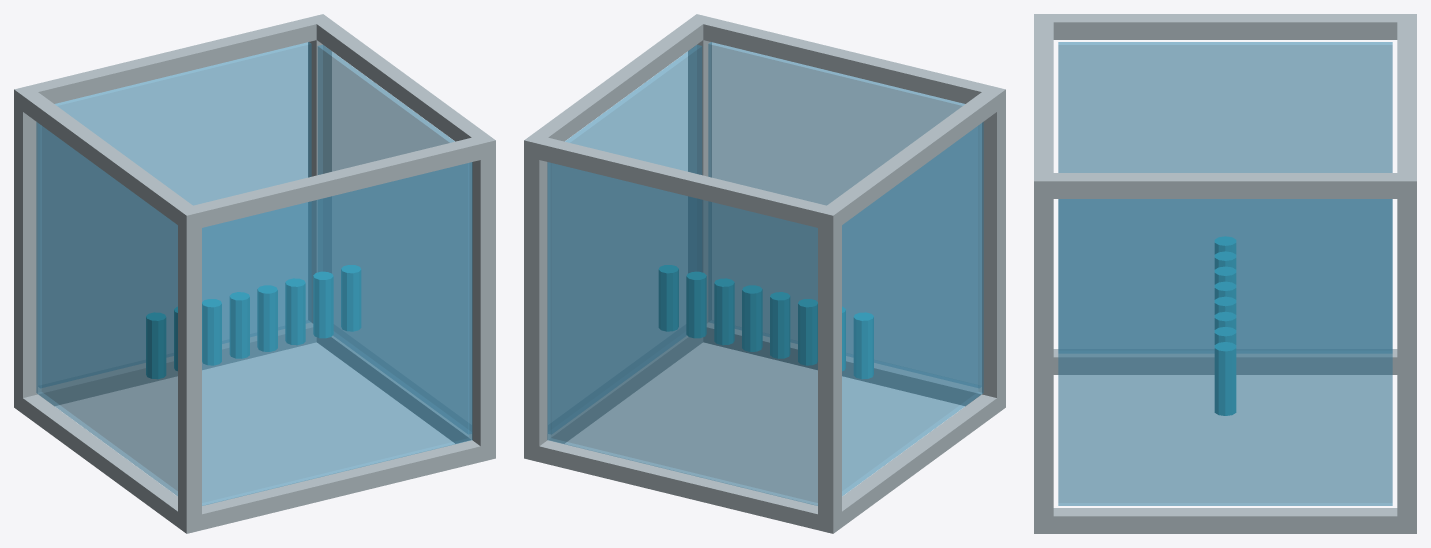
File: 47_L77_PrecisionMegasonicCleaningModule.fbx
The picture shows the model from 3 angles, left to right: view 1: azimuth 30°, elevation 25°; view 2: azimuth 150°, elevation 25°; view 3: azimuth 270°, elevation 25°; orthographic projection. The views are drawn at different scales.
Visible parts, largest first — view 1: PrecisionMegasonicCleaningModule_Part_0013, PrecisionMegasonicCleaningModule_Part_0012, PrecisionMegasonicCleaningModule_Part_0014, PrecisionMegasonicCleaningModule_Part_0015, PrecisionMegasonicCleaningModule_Part_0001, PrecisionMegasonicCleaningModule_Part_0009, PrecisionMegasonicCleaningModule_Part_0005, PrecisionMegasonicCleaningModule_Part_0003, PrecisionMegasonicCleaningModule_Part_0008, PrecisionMegasonicCleaningModule_Part_0000, PrecisionMegasonicCleaningModule_Part_0002, PrecisionMegasonicCleaningModule_Part_0010 (+11 smaller); view 2: PrecisionMegasonicCleaningModule_Part_0012, PrecisionMegasonicCleaningModule_Part_0013, PrecisionMegasonicCleaningModule_Part_0014, PrecisionMegasonicCleaningModule_Part_0015, PrecisionMegasonicCleaningModule_Part_0000, PrecisionMegasonicCleaningModule_Part_0008, PrecisionMegasonicCleaningModule_Part_0004, PrecisionMegasonicCleaningModule_Part_0002, PrecisionMegasonicCleaningModule_Part_0009, PrecisionMegasonicCleaningModule_Part_0001, PrecisionMegasonicCleaningModule_Part_0003, PrecisionMegasonicCleaningModule_Part_0010 (+11 smaller); view 3: PrecisionMegasonicCleaningModule_Part_0015, PrecisionMegasonicCleaningModule_Part_0014, PrecisionMegasonicCleaningModule_Part_0011, PrecisionMegasonicCleaningModule_Part_0007, PrecisionMegasonicCleaningModule_Part_0010, PrecisionMegasonicCleaningModule_Part_0006, PrecisionMegasonicCleaningModule_Part_0003, PrecisionMegasonicCleaningModule_Part_0002, PrecisionMegasonicCleaningModule_Part_0008, PrecisionMegasonicCleaningModule_Part_0009, PrecisionMegasonicCleaningModule_Part_0023.
Part boxes in pixels (left/top/right/bottom): PrecisionMegasonicCleaningModule_Part_0013: left=202, top=162, right=472, bottom=505; PrecisionMegasonicCleaningModule_Part_0012: left=38, top=42, right=311, bottom=387; PrecisionMegasonicCleaningModule_Part_0014: left=36, top=122, right=177, bottom=496; PrecisionMegasonicCleaningModule_Part_0015: left=317, top=45, right=471, bottom=434; PrecisionMegasonicCleaningModule_Part_0001: left=178, top=205, right=201, bottom=533; PrecisionMegasonicCleaningModule_Part_0009: left=178, top=134, right=495, bottom=230; PrecisionMegasonicCleaningModule_Part_0005: left=178, top=440, right=494, bottom=533; PrecisionMegasonicCleaningModule_Part_0003: left=472, top=134, right=495, bottom=458; PrecisionMegasonicCleaningModule_Part_0008: left=14, top=14, right=329, bottom=109; PrecisionMegasonicCleaningModule_Part_0000: left=14, top=86, right=37, bottom=413; PrecisionMegasonicCleaningModule_Part_0002: left=308, top=14, right=331, bottom=322; PrecisionMegasonicCleaningModule_Part_0010: left=14, top=90, right=201, bottom=229; PrecisionMegasonicCleaningModule_Part_0012: left=547, top=162, right=817, bottom=505; PrecisionMegasonicCleaningModule_Part_0013: left=708, top=42, right=981, bottom=387; PrecisionMegasonicCleaningModule_Part_0014: left=842, top=122, right=983, bottom=496; PrecisionMegasonicCleaningModule_Part_0015: left=548, top=45, right=702, bottom=434; PrecisionMegasonicCleaningModule_Part_0000: left=818, top=205, right=841, bottom=533; PrecisionMegasonicCleaningModule_Part_0008: left=524, top=134, right=841, bottom=230; PrecisionMegasonicCleaningModule_Part_0004: left=525, top=440, right=840, bottom=533; PrecisionMegasonicCleaningModule_Part_0002: left=524, top=134, right=547, bottom=458; PrecisionMegasonicCleaningModule_Part_0009: left=690, top=14, right=1005, bottom=104; PrecisionMegasonicCleaningModule_Part_0001: left=982, top=87, right=1005, bottom=408; PrecisionMegasonicCleaningModule_Part_0003: left=688, top=14, right=711, bottom=322; PrecisionMegasonicCleaningModule_Part_0010: left=818, top=90, right=1005, bottom=229; PrecisionMegasonicCleaningModule_Part_0015: left=1058, top=199, right=1392, bottom=505; PrecisionMegasonicCleaningModule_Part_0014: left=1058, top=42, right=1392, bottom=353; PrecisionMegasonicCleaningModule_Part_0011: left=1034, top=173, right=1416, bottom=198; PrecisionMegasonicCleaningModule_Part_0007: left=1034, top=508, right=1416, bottom=533; PrecisionMegasonicCleaningModule_Part_0010: left=1034, top=14, right=1415, bottom=39; PrecisionMegasonicCleaningModule_Part_0006: left=1053, top=349, right=1397, bottom=374; PrecisionMegasonicCleaningModule_Part_0003: left=1034, top=173, right=1053, bottom=533; PrecisionMegasonicCleaningModule_Part_0002: left=1397, top=173, right=1416, bottom=533; PrecisionMegasonicCleaningModule_Part_0008: left=1397, top=14, right=1416, bottom=198; PrecisionMegasonicCleaningModule_Part_0009: left=1034, top=14, right=1053, bottom=198; PrecisionMegasonicCleaningModule_Part_0023: left=1215, top=342, right=1235, bottom=415.
Bounding box in the file's own units: 122 × 120 × 118.
